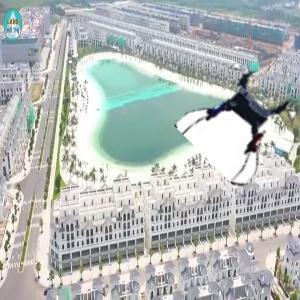drone: (190, 68, 295, 173)
